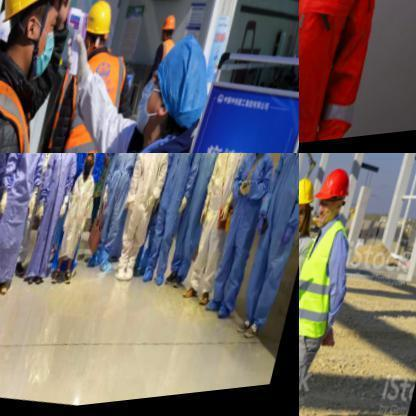vest: (299, 0, 415, 152), (211, 154, 278, 315), (243, 153, 298, 337), (187, 153, 252, 306), (0, 34, 80, 152), (46, 50, 138, 152), (299, 220, 358, 356), (143, 153, 205, 282), (113, 153, 173, 277), (170, 153, 225, 287), (25, 153, 82, 279), (0, 153, 51, 289), (91, 153, 144, 264), (60, 177, 100, 259), (0, 153, 18, 256), (74, 153, 110, 181), (153, 43, 177, 80), (32, 153, 63, 179)
